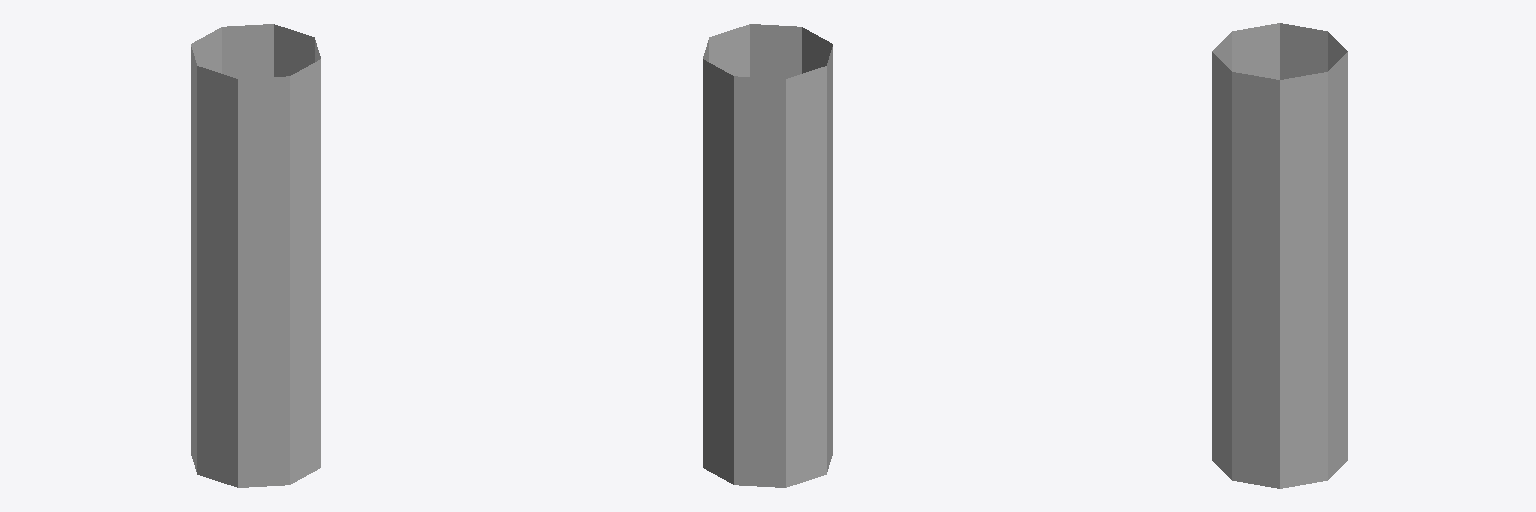
File: cylinderbridgepillar.obj
The picture shows the model from 3 angles: view 1: azimuth 30°, elevation 25°; view 2: azimuth 150°, elevation 25°; view 3: azimuth 270°, elevation 25°; orthographic projection.
Visible parts, largest first — view 1: Cylinder; view 2: Cylinder; view 3: Cylinder.
Boxes of the visible parts, box(x1,y1,x2,y2) form: Cylinder: box(191, 24, 320, 487); Cylinder: box(703, 24, 832, 487); Cylinder: box(1212, 23, 1347, 488).
Bounding box in the file's own units: 0.5984 × 2 × 0.5984.